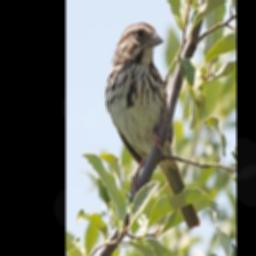Sparrow: (105, 21, 201, 228)
